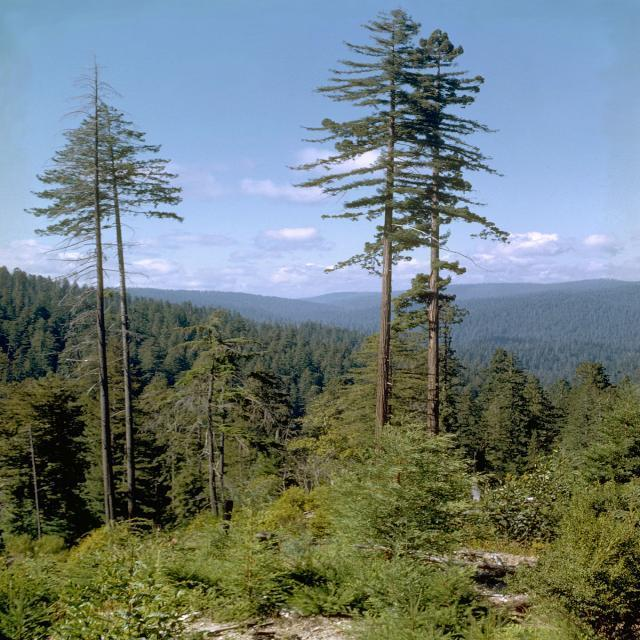Tree: (318, 0, 502, 447), (28, 70, 184, 526), (559, 351, 638, 640), (470, 348, 552, 456), (169, 316, 252, 413), (134, 364, 184, 510)
